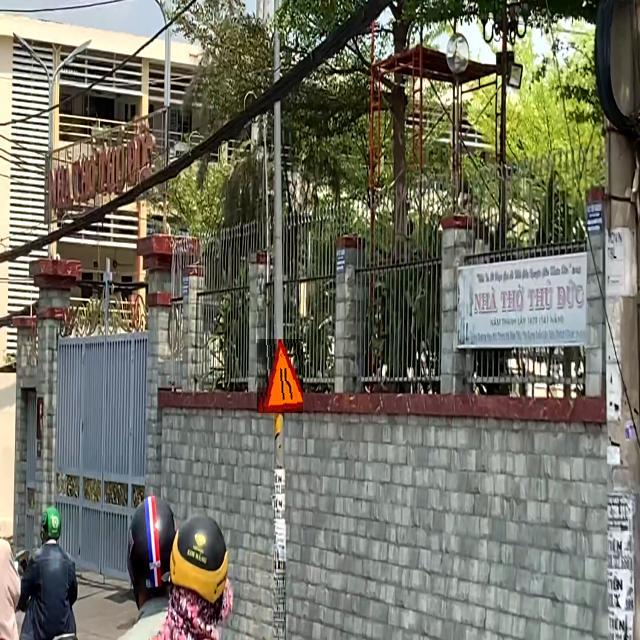W-203c: (257, 339, 303, 413)
